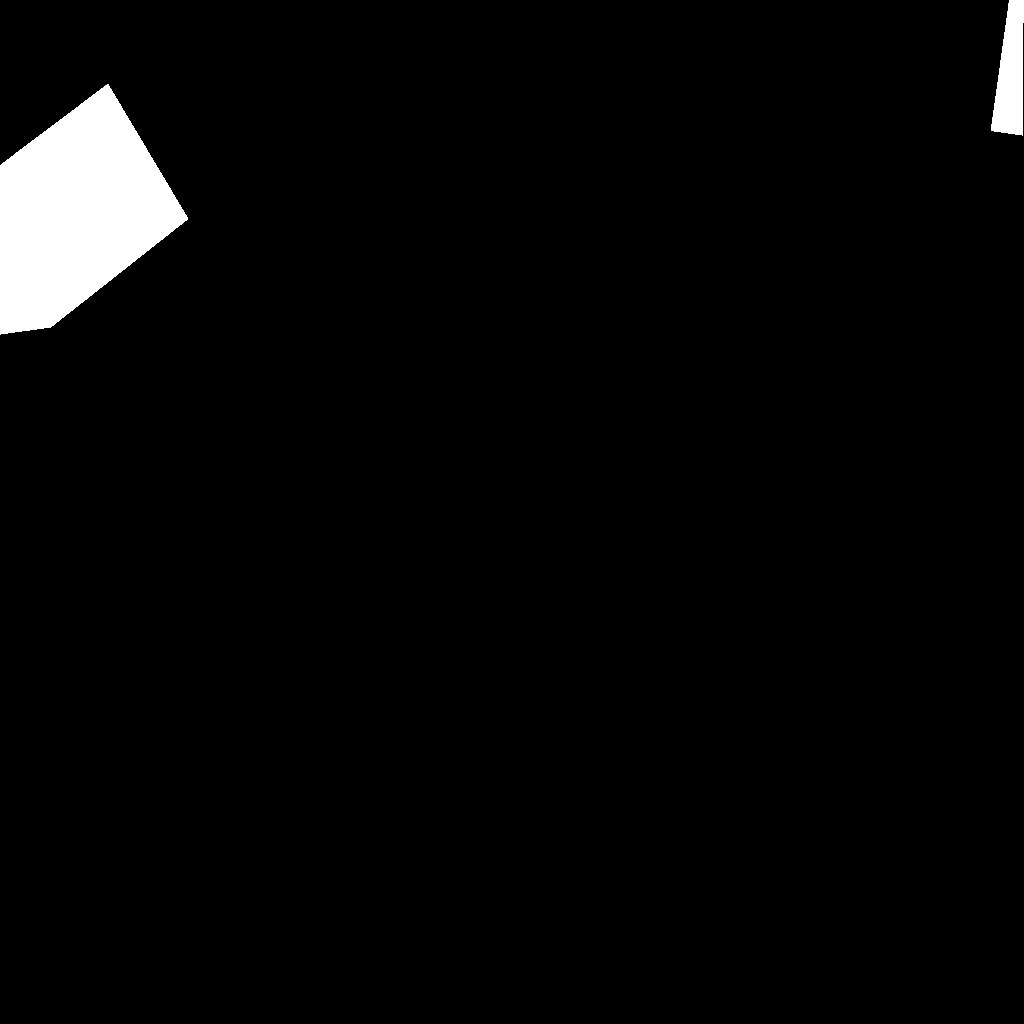building: (0, 84, 189, 335), (991, 0, 1024, 136)
